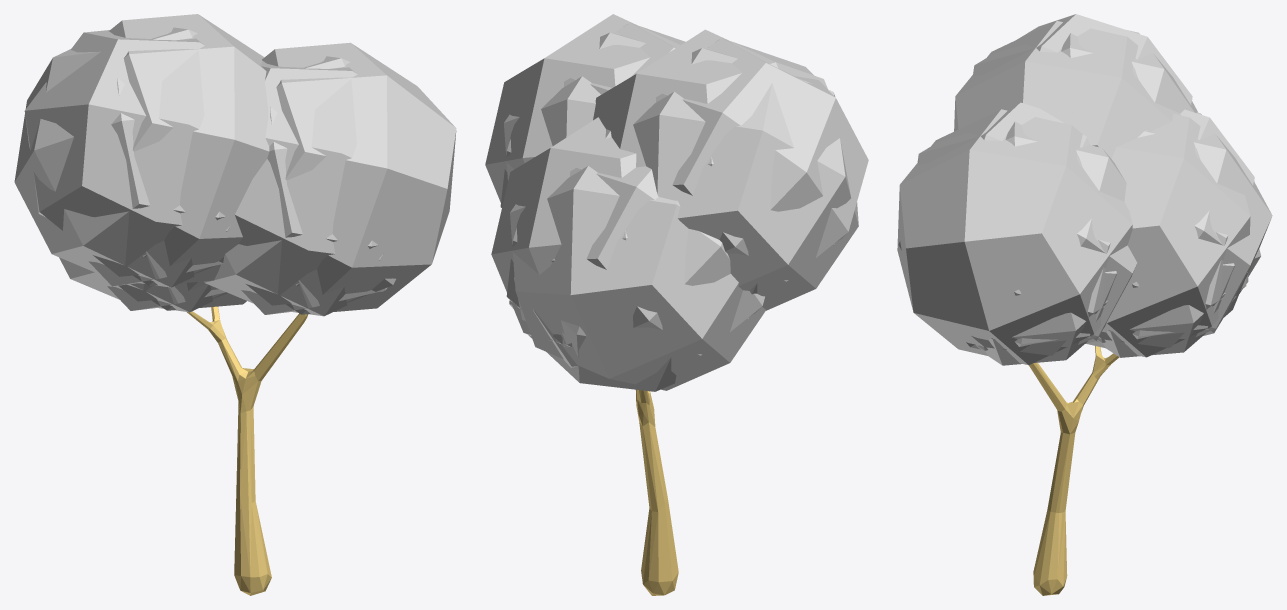
Rendered from tree2.fbx.
3 renders of one model, left to right at view 1: azimuth 30°, elevation 25°; view 2: azimuth 150°, elevation 25°; view 3: azimuth 270°, elevation 25°, orthographic. The views are drawn at different scales.
Parts seen in each view (by area): view 1: Cube.005, Cube; view 2: Cube.005, Cube; view 3: Cube.005, Cube.
Boxes of the visible parts, <box> form: Cube.005: <box>14,14,456,316</box>; Cube: <box>187,306,307,595</box>; Cube.005: <box>485,14,868,391</box>; Cube: <box>636,389,678,595</box>; Cube.005: <box>897,14,1272,365</box>; Cube: <box>1029,346,1119,595</box>.
Bounding box in the file's own units: 782 × 1170 × 755.
